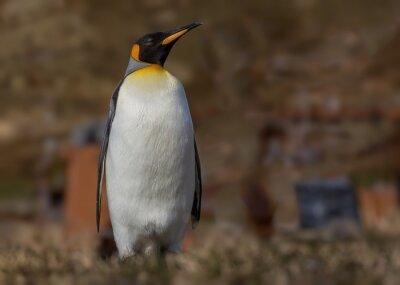king: (89, 13, 225, 264)
